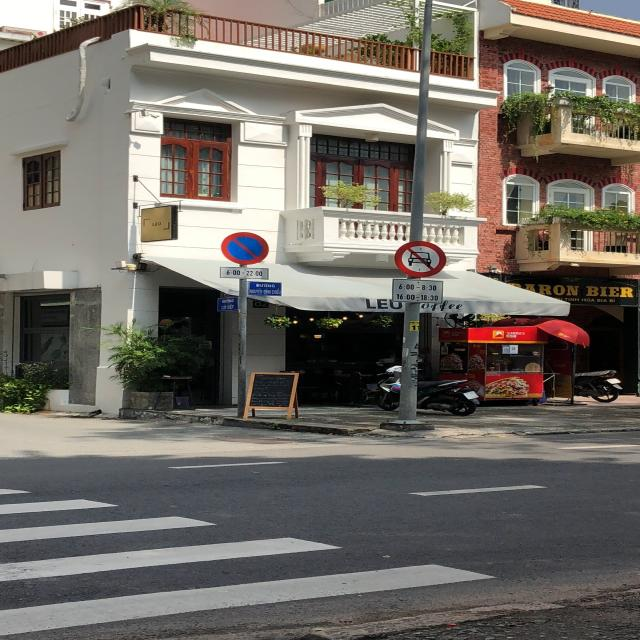Bien bao cam do xe: (216, 230, 274, 267)
Bien bao cam xe oto: (391, 239, 449, 278)
